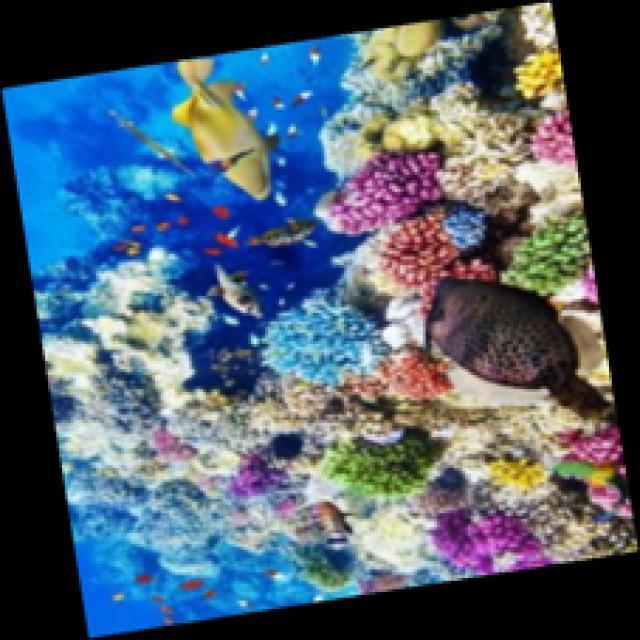Healthy: (261, 290, 388, 391), (386, 214, 494, 317), (334, 149, 446, 238), (436, 506, 555, 581), (500, 206, 595, 296), (326, 434, 447, 502), (553, 430, 635, 520), (391, 351, 455, 404), (514, 47, 569, 106), (529, 108, 581, 168), (296, 544, 353, 590), (236, 457, 285, 502), (486, 460, 548, 492), (443, 208, 489, 250), (150, 430, 201, 465)
